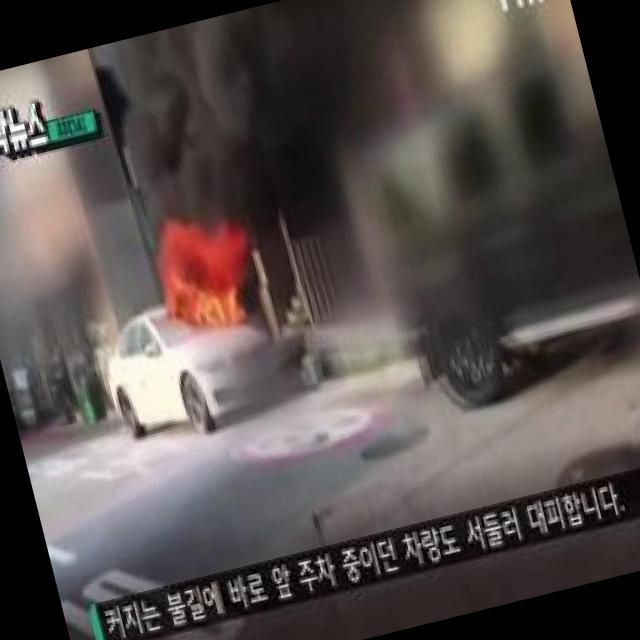Fire: (154, 227, 258, 340)
Smoke: (94, 0, 499, 239)
